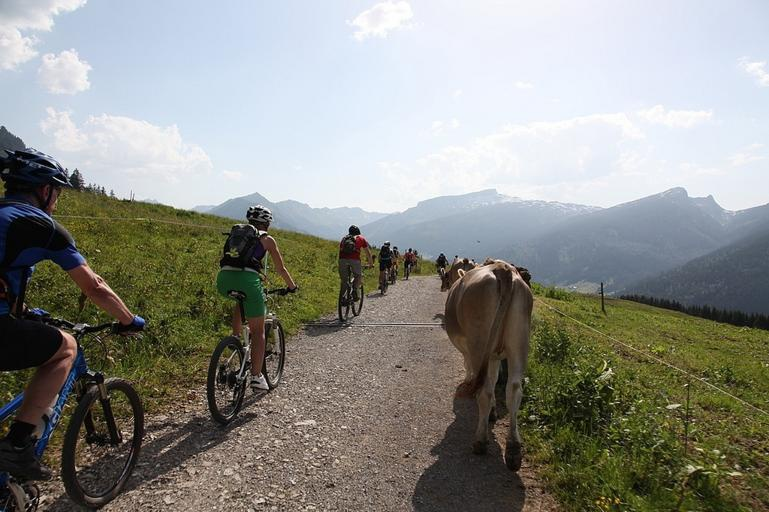non-vehicle: (0, 307, 151, 511), (206, 284, 296, 425), (337, 263, 373, 320)
